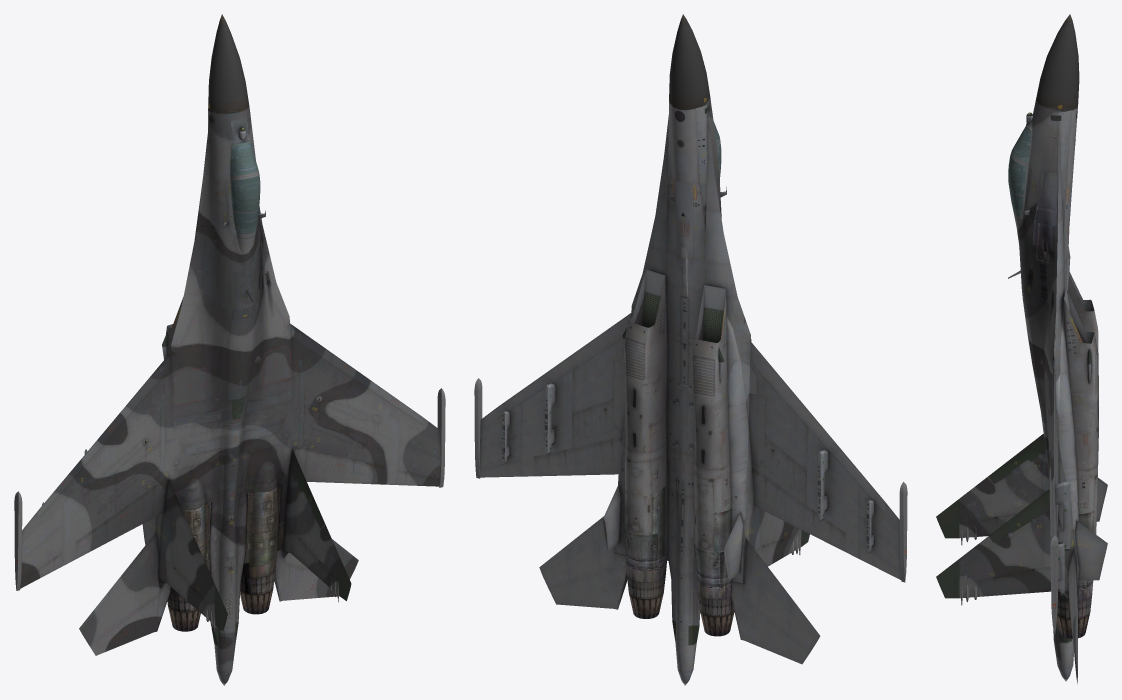
Rendered from Su-27_Flanker.obj.
3 views of the same model, side by side, from view 1: azimuth 30°, elevation 25°; view 2: azimuth 150°, elevation 25°; view 3: azimuth 270°, elevation 25° (orthographic).
Visible parts, largest first — view 1: LOD0, ElevatorL01, VoletL01, FlapL01, FlapR01, ElevatorR01, VoletR01, BrakeL01, Glass_Canopy01, RudderL01, RudderR01, Glass01; view 2: LOD0, ElevatorL01, ElevatorR01, FlapL01, FlapR01, VoletL01, VoletR01; view 3: LOD0, RudderR01, ElevatorR01, Glass_Canopy01, VoletR01, RudderL01, EngineR01, Glass01, Canopy01, BrakeL01.
Boxes of the visible parts, x1,y1,x2,y2 form: LOD0: [14, 14, 445, 685]; ElevatorL01: [79, 532, 170, 655]; VoletL01: [37, 352, 172, 522]; FlapL01: [74, 477, 167, 559]; FlapR01: [293, 446, 385, 484]; ElevatorR01: [274, 539, 358, 601]; VoletR01: [290, 323, 423, 428]; BrakeL01: [228, 305, 255, 399]; Glass_Canopy01: [231, 175, 260, 233]; RudderL01: [165, 560, 206, 617]; RudderR01: [288, 530, 329, 587]; Glass01: [231, 141, 258, 175]; LOD0: [474, 14, 907, 685]; ElevatorL01: [731, 538, 820, 664]; ElevatorR01: [539, 516, 627, 609]; FlapL01: [752, 468, 846, 551]; FlapR01: [534, 438, 622, 476]; VoletL01: [750, 342, 884, 512]; VoletR01: [497, 313, 631, 418]; LOD0: [936, 14, 1107, 681]; RudderR01: [977, 568, 1050, 596]; ElevatorR01: [1064, 548, 1077, 683]; Glass_Canopy01: [1008, 156, 1025, 216]; VoletR01: [1051, 360, 1055, 536]; RudderL01: [977, 513, 1017, 536]; EngineR01: [1057, 612, 1090, 638]; Glass01: [1011, 126, 1031, 162]; Canopy01: [1009, 154, 1031, 220]; BrakeL01: [1023, 294, 1039, 388].
Size of the model in its own units: 14.27 by 21.41 by 4.99.
4 materials, 4 textured.
